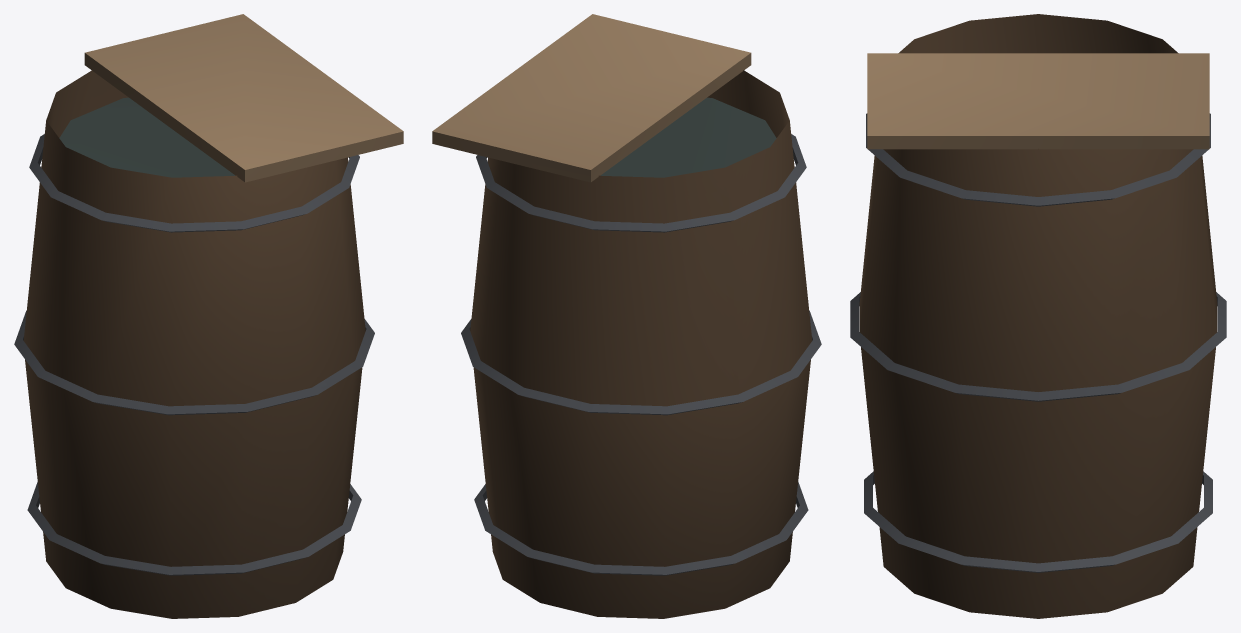
The model's file is ph_prop_rain_barrel.glb.
The picture shows the model from 3 angles, left to right: view 1: azimuth 30°, elevation 25°; view 2: azimuth 150°, elevation 25°; view 3: azimuth 270°, elevation 25°; orthographic projection. The views are drawn at different scales.
Visible parts, largest first — view 1: ph_prop_rain_barrel; view 2: ph_prop_rain_barrel; view 3: ph_prop_rain_barrel.
Part boxes in pixels (left/top/right/bottom): ph_prop_rain_barrel: left=14, top=14, right=403, bottom=618; ph_prop_rain_barrel: left=432, top=14, right=821, bottom=618; ph_prop_rain_barrel: left=850, top=14, right=1226, bottom=618.
Bounding box in the file's own units: 0.632 × 0.872 × 0.6161.
